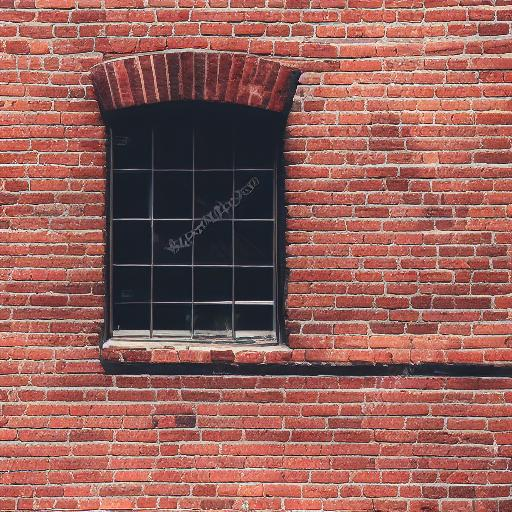Window: (94, 53, 304, 369)
